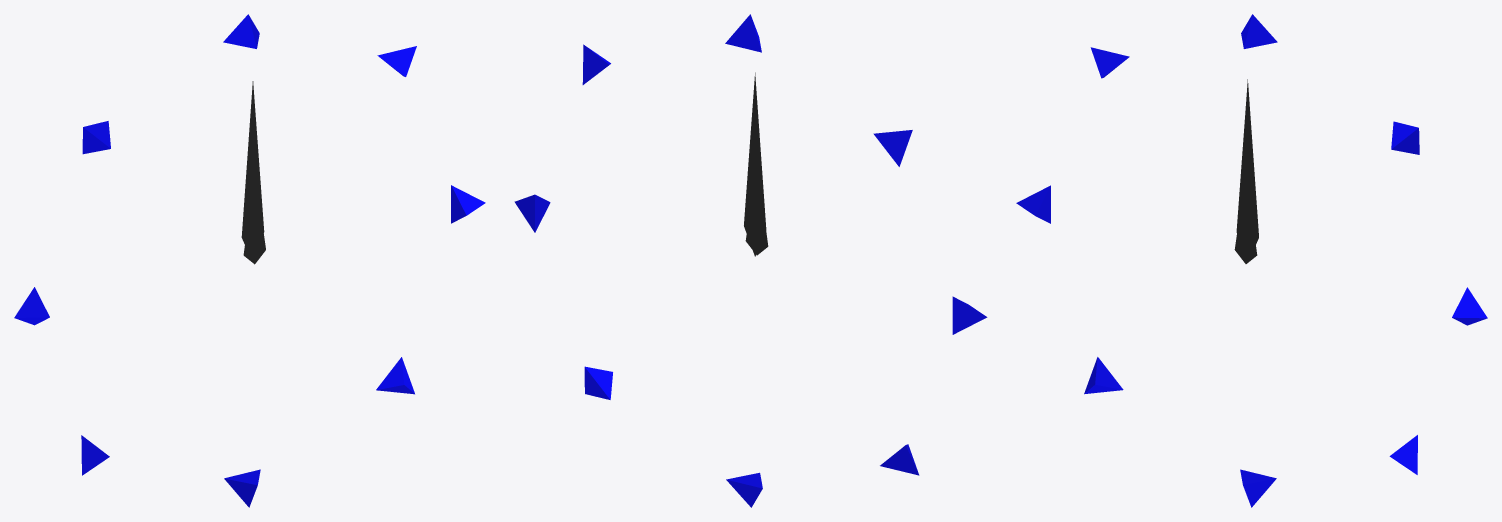
Rendered from uvmd-0238.glb.
3 renders of one model, left to right at view 1: azimuth 30°, elevation 25°; view 2: azimuth 150°, elevation 25°; view 3: azimuth 330°, elevation 25°, orthographic.
Parts seen in each view (by area): view 1: uvmd-0238; view 2: uvmd-0238; view 3: uvmd-0238.
Boxes of the visible parts, x1=… form: uvmd-0238: x1=14, y1=14, x2=485, y2=507; uvmd-0238: x1=514, y1=14, x2=987, y2=507; uvmd-0238: x1=1016, y1=14, x2=1487, y2=507.
Bounding box in the file's own units: 4092 × 4088 × 273.
1 material, 1 textured.
